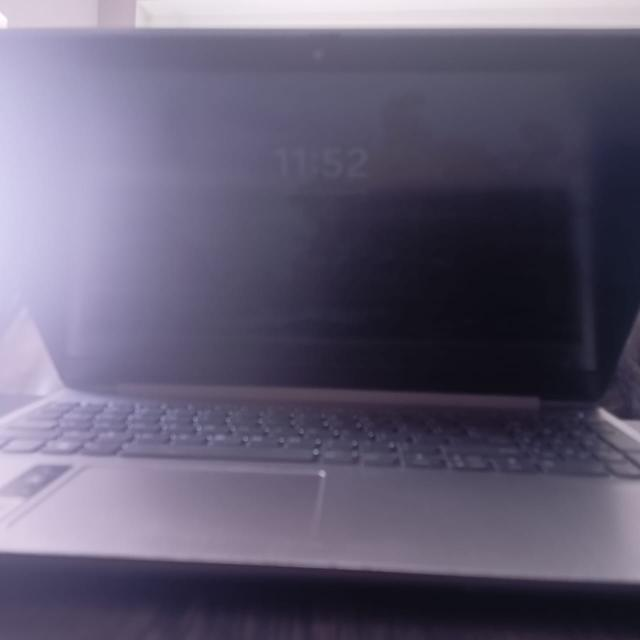laptop: (8, 26, 640, 598)
